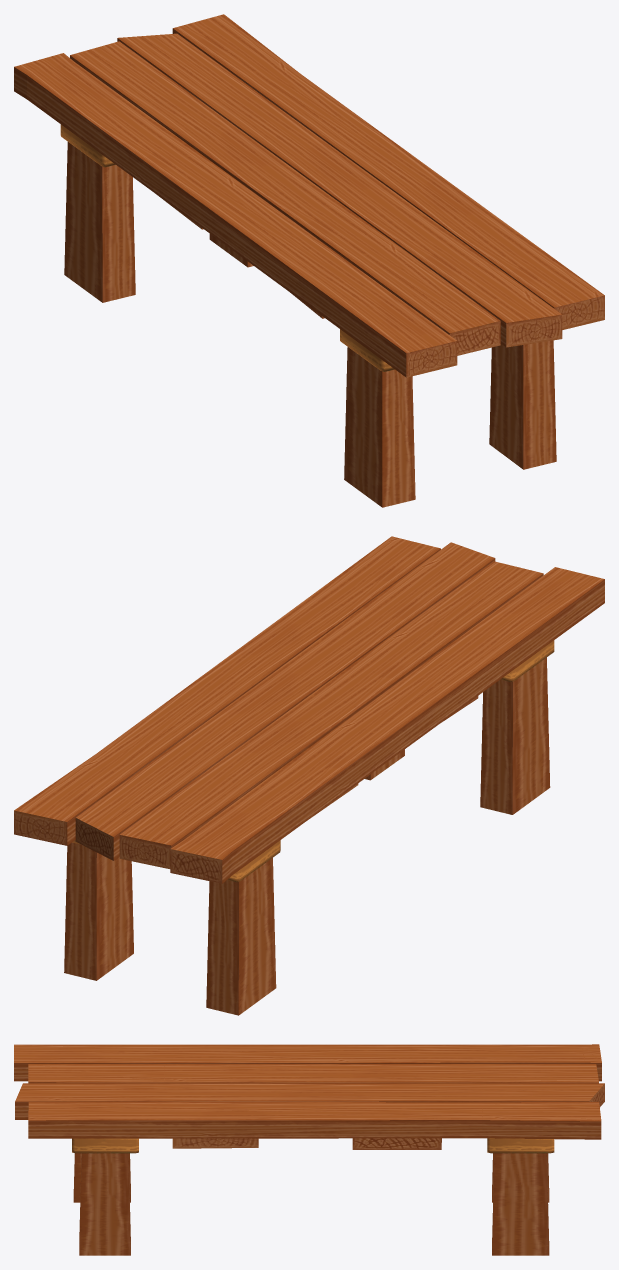
The model's file is Table_w_ScaleReduction.fbx.
3 renders of one model, top to bottom at view 1: azimuth 30°, elevation 25°; view 2: azimuth 150°, elevation 25°; view 3: azimuth 270°, elevation 25°, orthographic. The views are drawn at different scales.
Parts seen in each view (by area): view 1: Table__4_; view 2: Table__4_; view 3: Table__4_.
Part boxes in pixels (x1,y1,x2,y2): Table__4_: [14, 14, 604, 507]; Table__4_: [14, 536, 604, 1015]; Table__4_: [14, 1044, 604, 1255].
Bounding box in the file's own units: 94.85 × 80.43 × 307.
